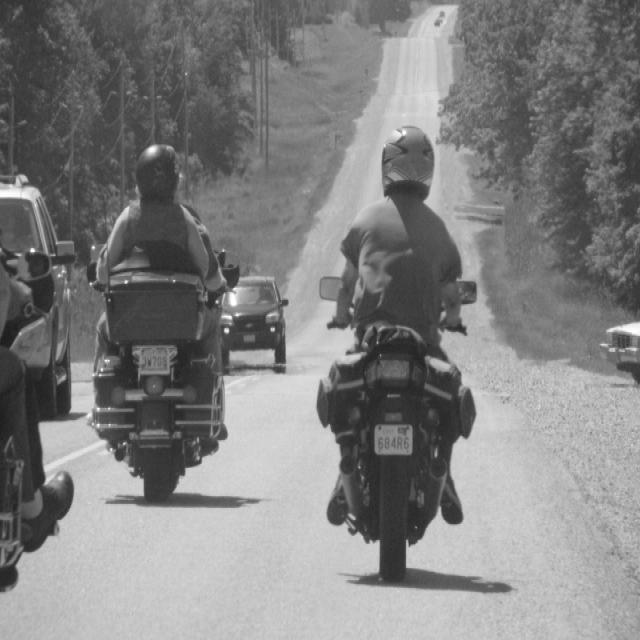motor: (321, 278, 476, 584), (83, 258, 226, 502), (0, 247, 52, 585)
